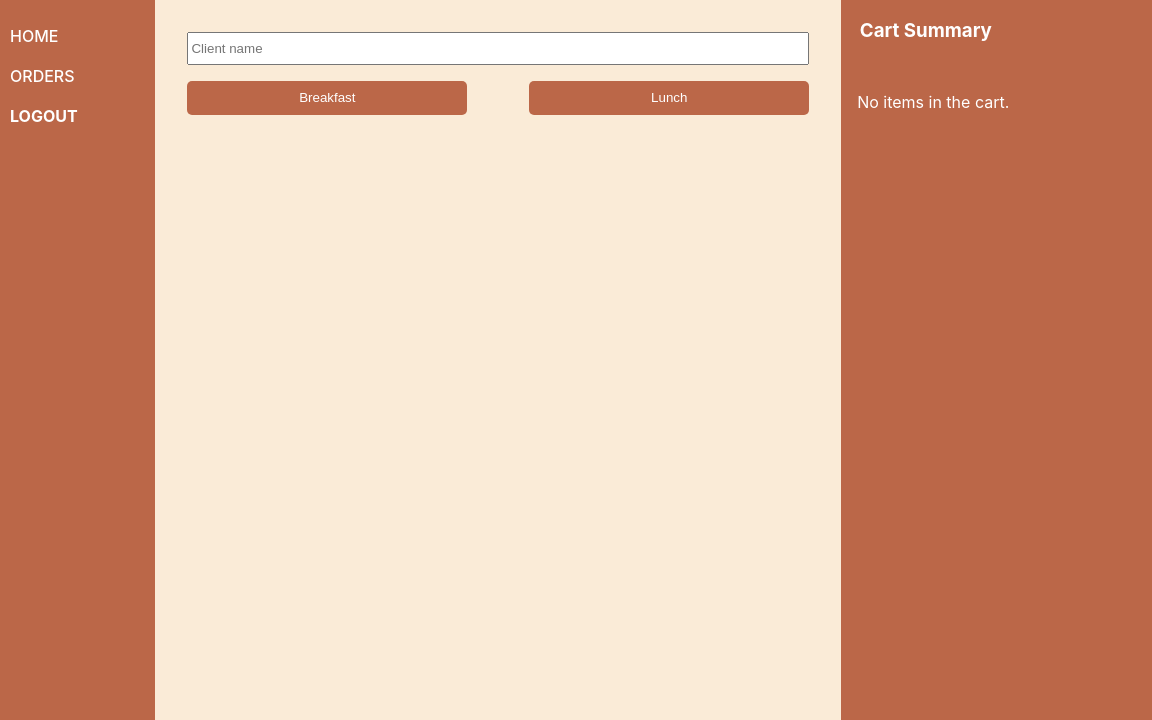
Test case: Waiter component › render breakfast products
Type "pedro" into the field with placeholder "Client name".
click(498, 49); type("pedro")  # box [187,32,809,65]
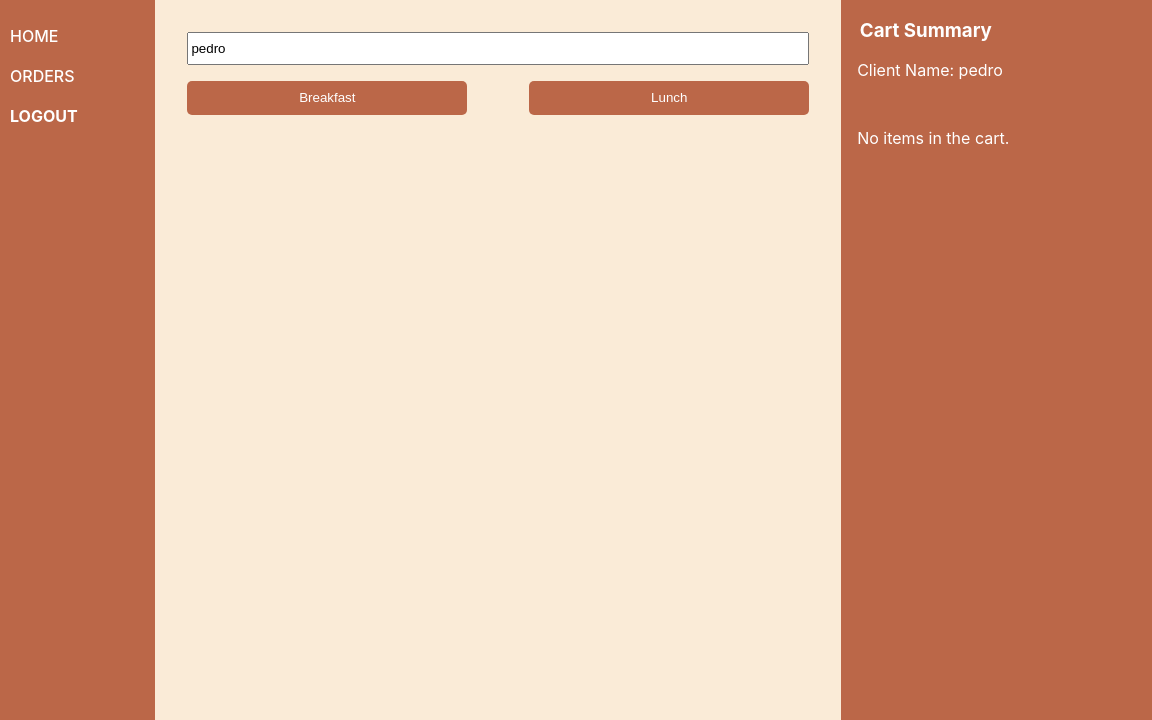
Click the button "Breakfast".
click(327, 98)  # box [187,81,467,115]
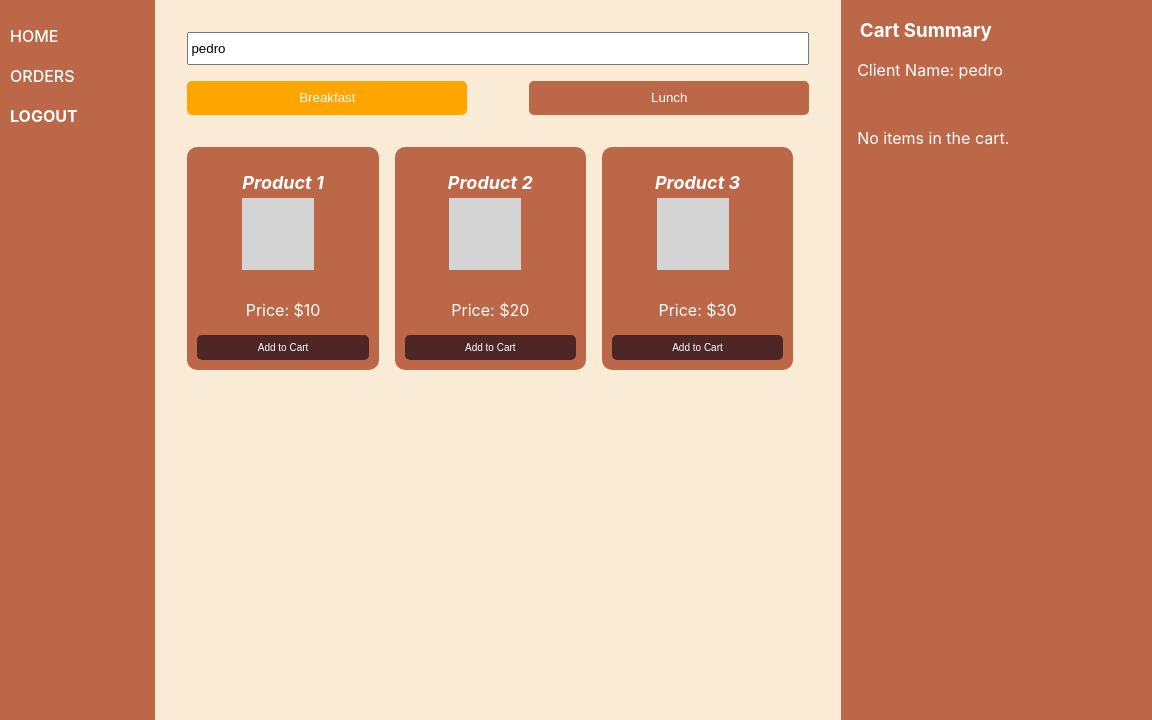
Check: the text "Product 1" is shown, box [242,172,324,193]
Check: the text "Product 2" is shown, box [448,172,533,193]
Check: the text "Product 3" is shown, box [655,172,740,193]
